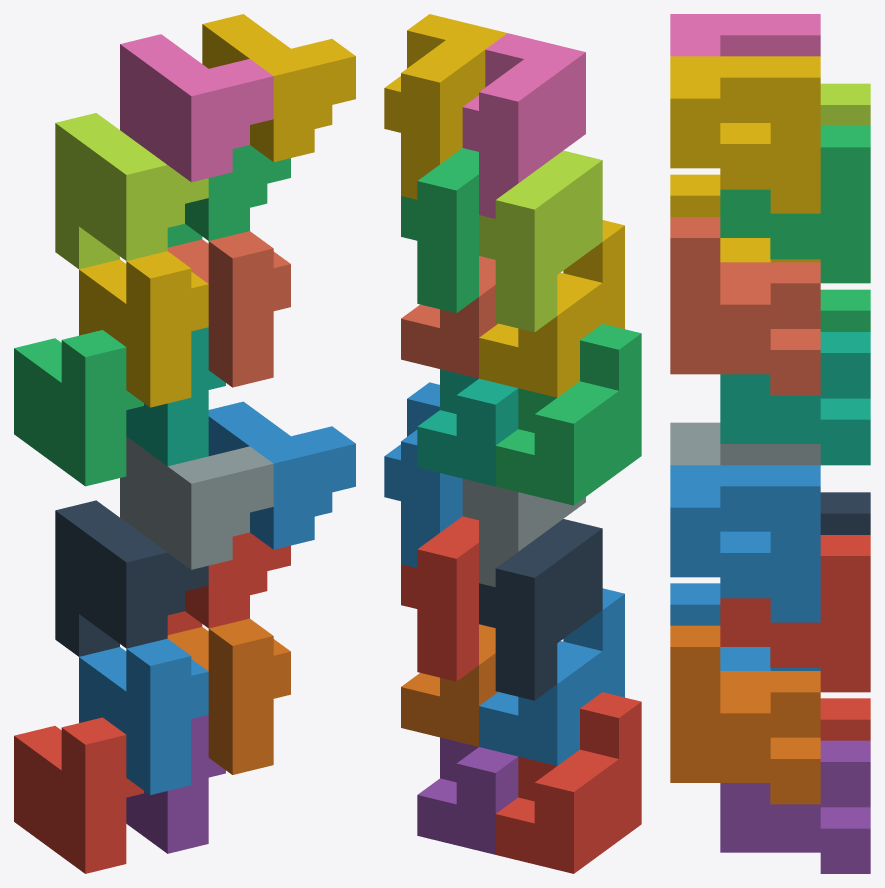
Rendered from tiling.obj.
The picture shows the model from 3 angles, left to right: view 1: azimuth 30°, elevation 25°; view 2: azimuth 150°, elevation 25°; view 3: azimuth 270°, elevation 25°; orthographic projection. The views are drawn at different scales.
Visible parts, largest first — view 1: copy_2_domain_1, copy_2_domain_3, copy_2_domain_4, copy_1_domain_1, copy_1_domain_3, copy_1_domain_4, copy_1_domain_2, copy_2_domain_2, copy_2_domain_8, copy_1_domain_8, copy_1_domain_6, copy_2_domain_6 (+4 smaller); view 2: copy_1_domain_1, copy_1_domain_3, copy_2_domain_4, copy_2_domain_3, copy_2_domain_1, copy_2_domain_8, copy_1_domain_2, copy_1_domain_4, copy_2_domain_5, copy_2_domain_7, copy_1_domain_5, copy_1_domain_7 (+4 smaller); view 3: copy_1_domain_8, copy_2_domain_6, copy_2_domain_8, copy_1_domain_6, copy_2_domain_7, copy_2_domain_5, copy_1_domain_5, copy_1_domain_7, copy_2_domain_4, copy_2_domain_2, copy_1_domain_4, copy_1_domain_2 (+4 smaller).
Part boxes in pixels (box(x1,y1,x2,y2)): copy_2_domain_1: box(55, 500, 208, 656); copy_2_domain_3: box(55, 113, 208, 269); copy_2_domain_4: box(120, 34, 273, 182); copy_1_domain_1: box(14, 717, 143, 873); copy_1_domain_3: box(14, 330, 143, 486); copy_1_domain_4: box(79, 251, 208, 407); copy_1_domain_2: box(79, 638, 208, 795); copy_2_domain_2: box(120, 436, 273, 569); copy_2_domain_8: box(202, 14, 355, 162); copy_1_domain_8: box(167, 231, 290, 387); copy_1_domain_6: box(167, 618, 290, 774); copy_2_domain_6: box(208, 401, 355, 549); copy_1_domain_1: box(495, 692, 641, 873); copy_1_domain_3: box(495, 324, 641, 505); copy_2_domain_4: box(462, 33, 585, 218); copy_2_domain_3: box(479, 150, 602, 332); copy_2_domain_1: box(479, 519, 602, 700); copy_2_domain_8: box(384, 14, 507, 199); copy_1_domain_2: box(479, 588, 624, 765); copy_1_domain_4: box(479, 220, 624, 397); copy_2_domain_5: box(401, 516, 478, 681); copy_2_domain_7: box(401, 148, 478, 313); copy_1_domain_5: box(417, 737, 518, 854); copy_1_domain_7: box(417, 369, 518, 486); copy_1_domain_8: box(670, 217, 820, 395); copy_2_domain_6: box(670, 465, 820, 622); copy_2_domain_8: box(670, 56, 820, 213); copy_1_domain_6: box(670, 625, 820, 804); copy_2_domain_7: box(720, 126, 870, 283); copy_2_domain_5: box(720, 535, 870, 692); copy_1_domain_5: box(720, 740, 870, 873); copy_1_domain_7: box(720, 332, 870, 465); copy_2_domain_4: box(670, 14, 820, 56); copy_2_domain_2: box(670, 422, 820, 465); copy_1_domain_4: box(670, 174, 820, 262); copy_1_domain_2: box(670, 583, 820, 670).
Size of the model in its own units: 6 by 18 by 4.
